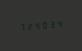four: (34, 20, 41, 30), (58, 18, 65, 28)
seven: (17, 22, 24, 32)
three: (50, 19, 57, 29)
two: (25, 21, 32, 31)
zero: (42, 19, 49, 30)
